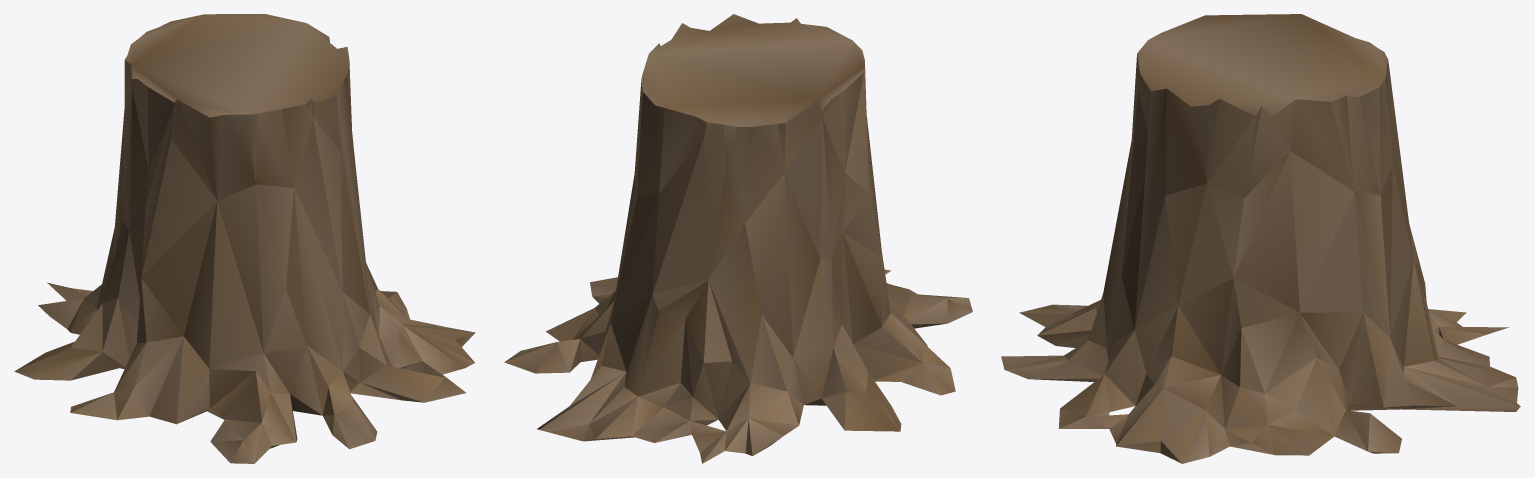
The model's file is maple_stump.glb.
3 views of the same model, side by side, from view 1: azimuth 30°, elevation 25°; view 2: azimuth 150°, elevation 25°; view 3: azimuth 270°, elevation 25° (orthographic). The views are drawn at different scales.
Parts seen in each view (by area): view 1: Stump; view 2: Stump; view 3: Stump.
Boxes of the visible parts, x1,y1,x2,y2 form: Stump: [14, 14, 475, 463]; Stump: [504, 14, 972, 463]; Stump: [1001, 14, 1520, 463].
Size of the model in its own units: 0.9179 by 0.6985 by 1.03.
